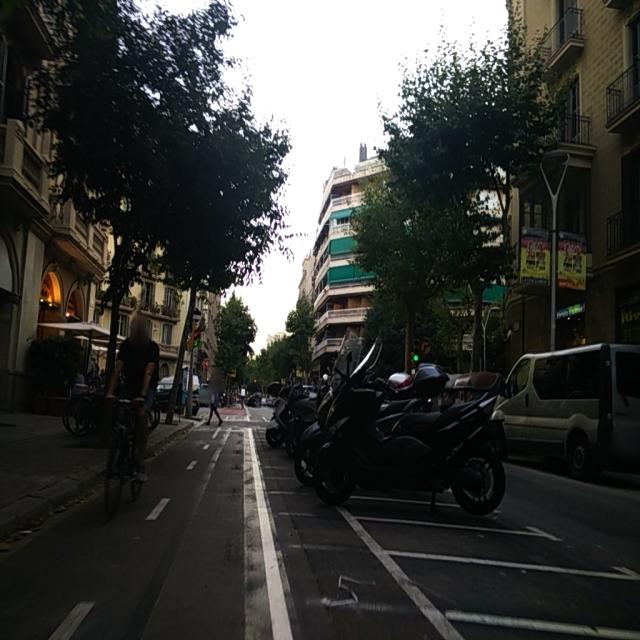bike: (290, 362, 509, 515), (102, 388, 157, 521), (62, 378, 107, 438)
car: (489, 341, 640, 484)
